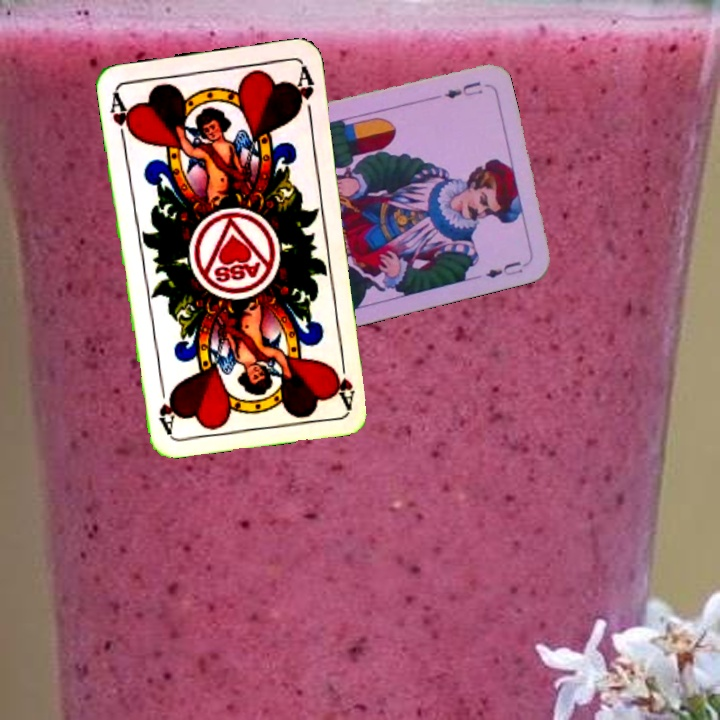EU: (440, 77, 485, 102)
HA: (106, 87, 137, 146), (328, 350, 358, 409)
